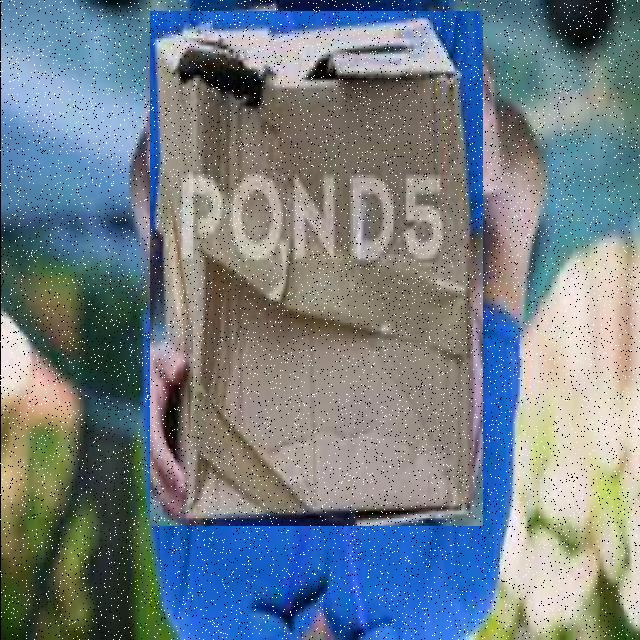defect: (149, 11, 482, 526)
